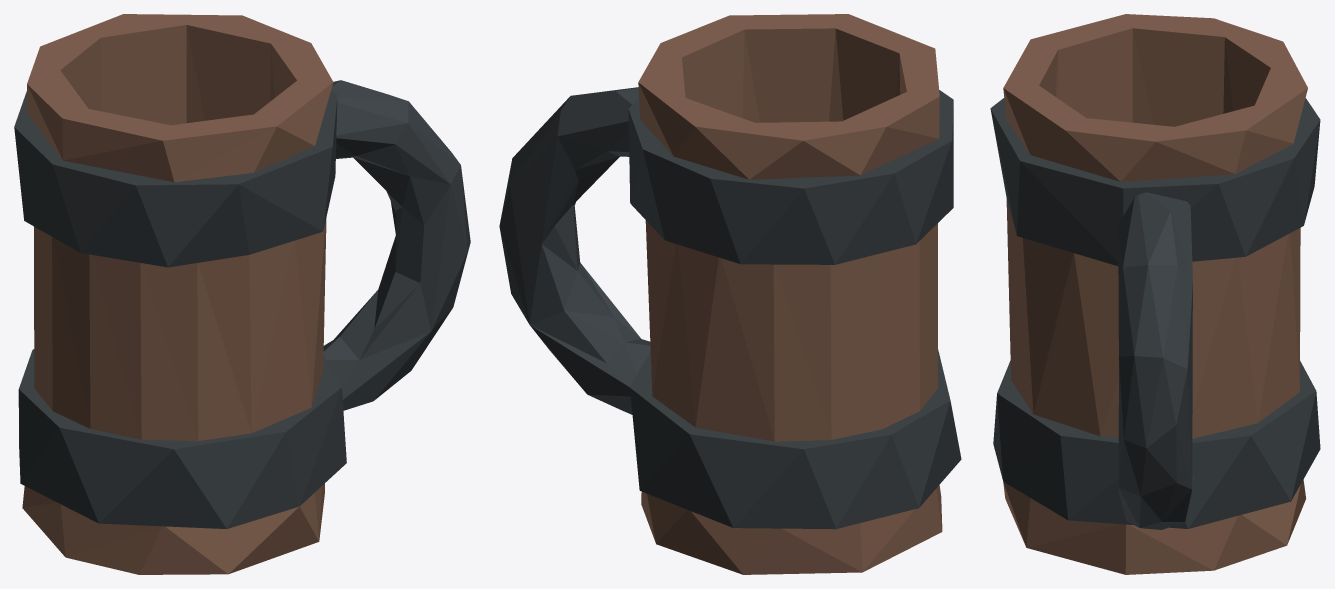
The model's file is Cup_01.fbx.
The picture shows the model from 3 angles, left to right: view 1: azimuth 30°, elevation 25°; view 2: azimuth 150°, elevation 25°; view 3: azimuth 270°, elevation 25°; orthographic projection.
Parts seen in each view (by area): view 1: Cup_01; view 2: Cup_01; view 3: Cup_01.
Part boxes in pixels (<box>): Cup_01: <box>14,14,470,574</box>; Cup_01: <box>499,14,961,574</box>; Cup_01: <box>990,14,1320,574</box>.
Bounding box in the file's own units: 20.22 × 19.65 × 13.55.
